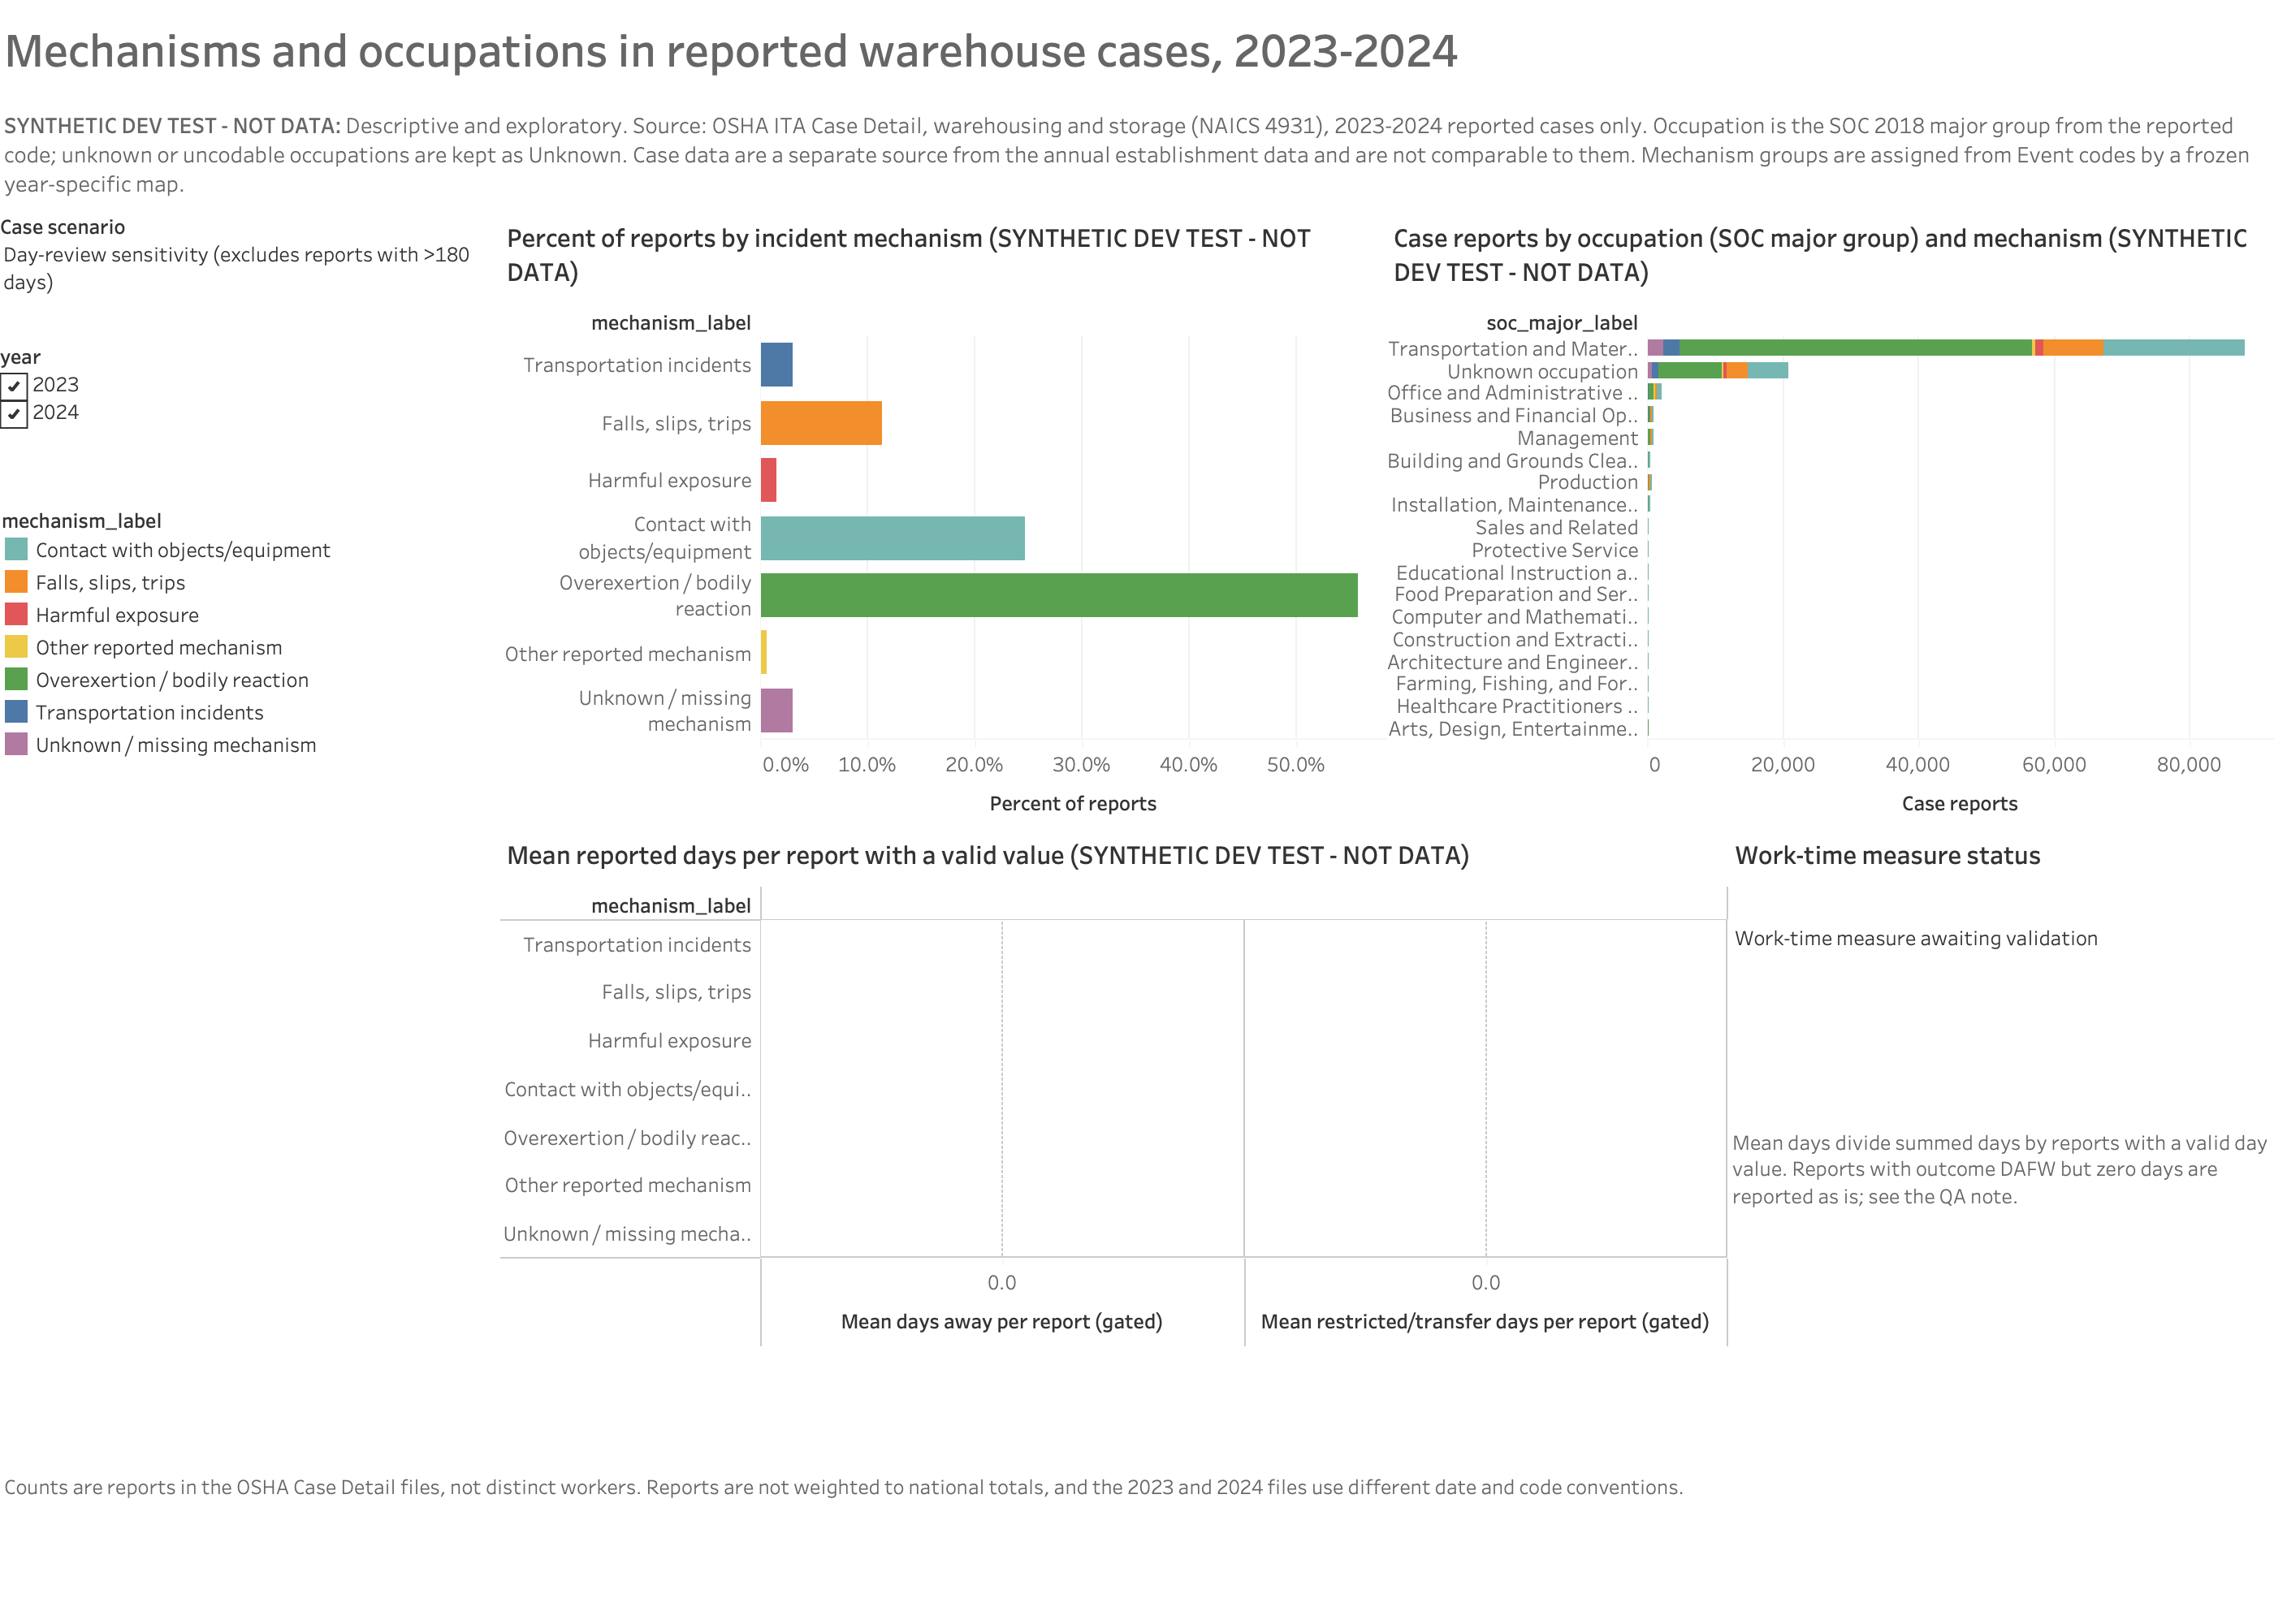

The dashboard page shown, as its layout file describes it:
{"tool":"tableau","page":{"name":"Case dashboard","canvas":[1400,1000],"ordinal":1},"visuals":[{"type":"text","box":[0,0,1400,60]},{"type":"text","box":[0,60,1400,70]},{"type":"parameter","param":"[Parameters].[Parameter 2]","box":[0,130,308,80]},{"type":"worksheet","title":"Case mechanism share","mark":"Bar","rows":["mechanism_label"],"cols":["Calculation_1300000000000003"],"box":[308,130,546,380]},{"type":"worksheet","title":"Case occupation by mechanism","mark":"Bar","rows":["soc_major_label"],"cols":["Calculation_1300000000000002"],"box":[854,130,546,380]},{"type":"filter","title":"Case mechanism share","param":"[federated.1rxrgdq1t0yllh102evw9053jy3i].[none:year:ok]","box":[0,210,308,100]},{"type":"legend","title":"Case occupation by mechanism","param":"[federated.1rxrgdq1t0yllh102evw9053jy3i].[none:mechanism_label:nk]","box":[0,310,308,220]},{"type":"worksheet","title":"Case days by mechanism","mark":"Bar","rows":["mechanism_label"],"cols":["Calculation_1300000000000004","Calculation_1300000000000005"],"box":[308,510,756,320]},{"type":"worksheet","title":"Case days gate","mark":"Text","box":[1064,510,336,100]},{"type":"text","box":[1064,610,336,220]},{"type":"text","box":[0,830,1400,170]}]}

Visuals, with their boxes in screenshot pixels (x1, y1, x2, y2), scaled from the page's 1400x1000 canvas onto the 2274x1624 screenshot:
text: crop(0, 0, 2273, 97)
text: crop(0, 97, 2273, 211)
parameter: crop(0, 211, 500, 341)
"Case mechanism share" worksheet (Bar marks): crop(500, 211, 1387, 828)
"Case occupation by mechanism" worksheet (Bar marks): crop(1387, 211, 2273, 828)
"Case mechanism share" filter: crop(0, 341, 500, 503)
"Case occupation by mechanism" legend: crop(0, 503, 500, 861)
"Case days by mechanism" worksheet (Bar marks): crop(500, 828, 1728, 1348)
"Case days gate" worksheet (Text marks): crop(1728, 828, 2273, 991)
text: crop(1728, 991, 2273, 1348)
text: crop(0, 1348, 2273, 1623)
